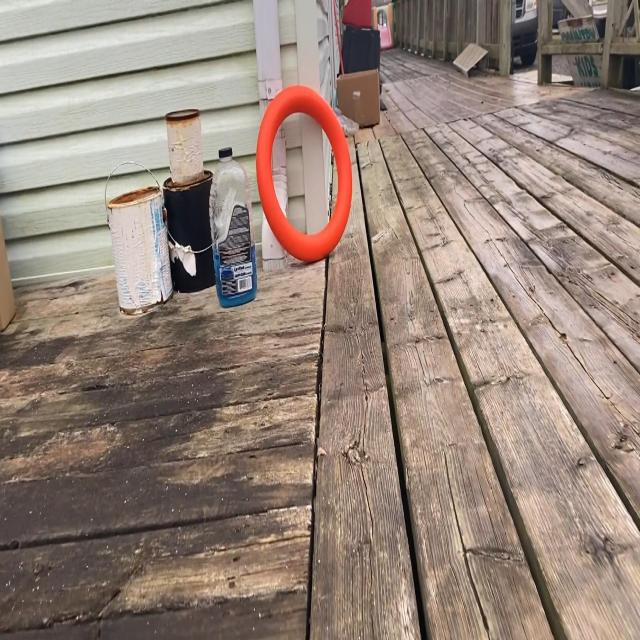note: (255, 82, 356, 263)
